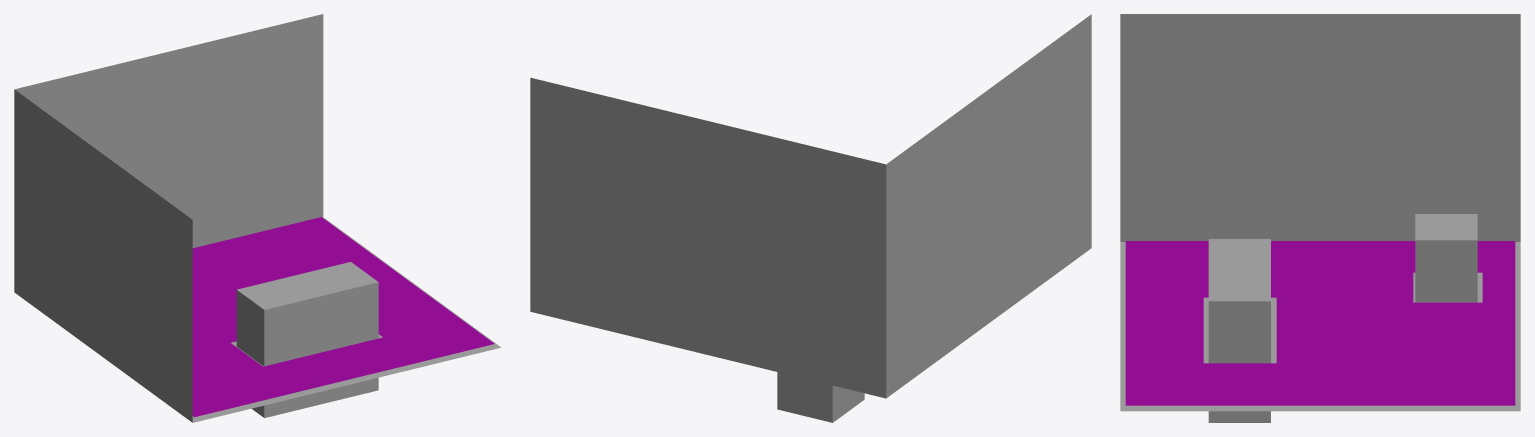
The picture shows the model from 3 angles, left to right: view 1: azimuth 30°, elevation 25°; view 2: azimuth 150°, elevation 25°; view 3: azimuth 270°, elevation 25°; orthographic projection. The views are drawn at different scales.
Parts seen in each view (by area): view 1: pCube4, Nav_Geo; view 2: pCube4; view 3: pCube4, Nav_Geo.
Part boxes in pixels (bbox=[...]): pCube4: bbox=[14, 14, 500, 422]; Nav_Geo: bbox=[192, 217, 494, 417]; pCube4: bbox=[530, 14, 1091, 422]; pCube4: bbox=[1120, 14, 1520, 422]; Nav_Geo: bbox=[1125, 241, 1515, 405].
Size of the model in its own units: 92.62 by 72.88 by 92.62.
